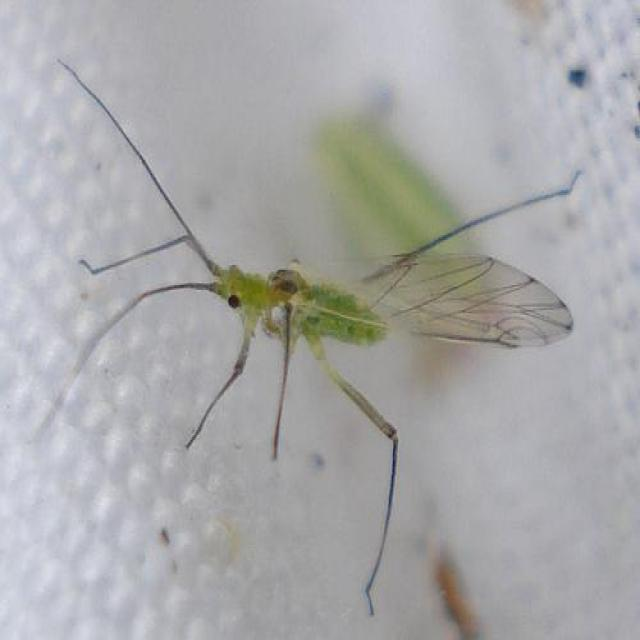Aphids: (50, 90, 586, 570)
